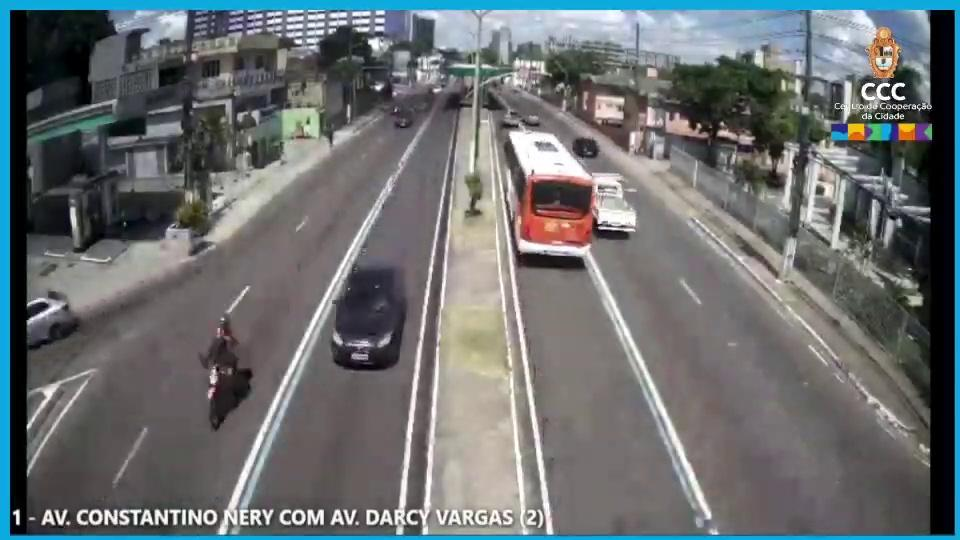biker: (201, 306, 250, 432)
car: (326, 249, 410, 368)
truck: (506, 127, 596, 273)
